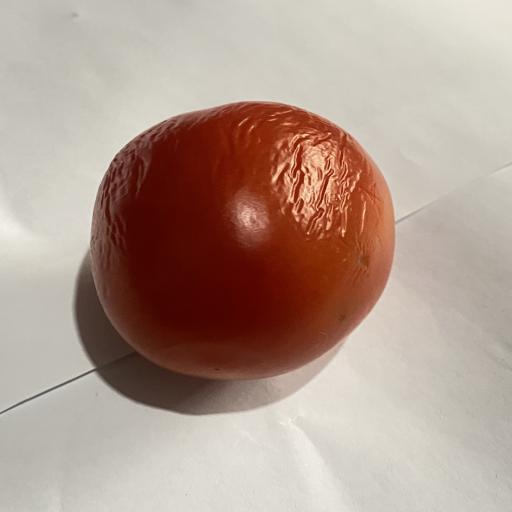spoiled: (90, 102, 394, 380)
